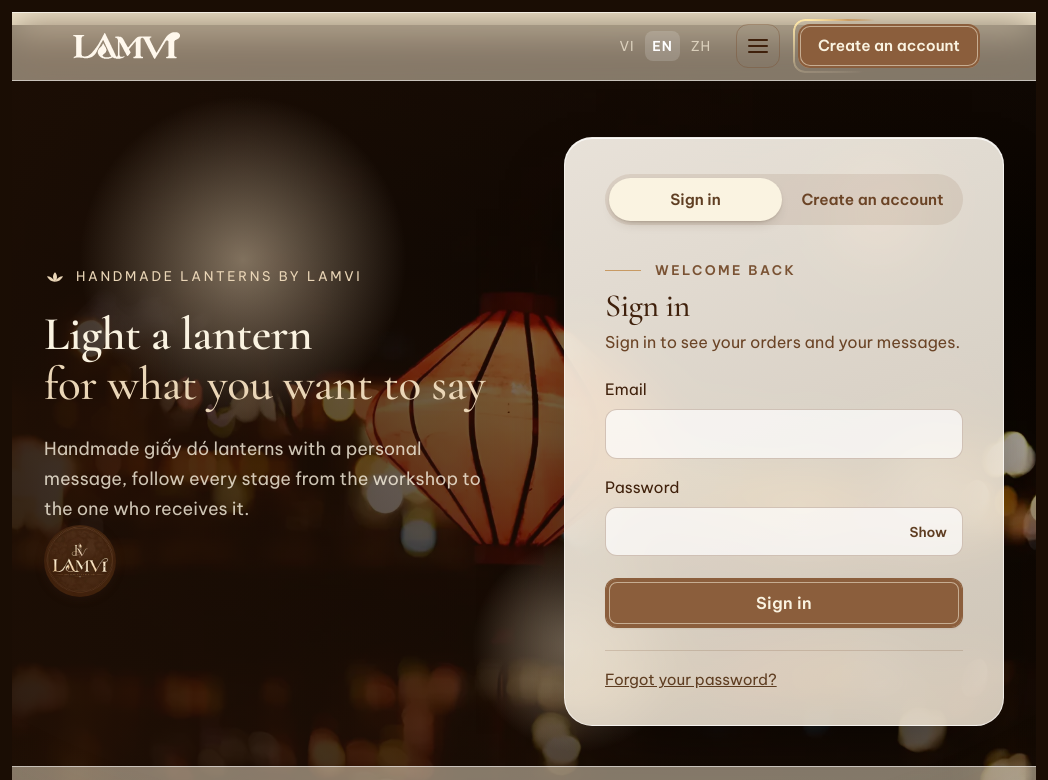
Test: nút hiện/ẩn mật khẩu › /en/login: đổi type, aria-pressed, nhãn và giữ giá trị
Expected: the heading "Sign in" is shown, [605,286,690,325]
In the password field labelled "Password": (784, 532) [605,507,963,556], type "bi-mat-123"
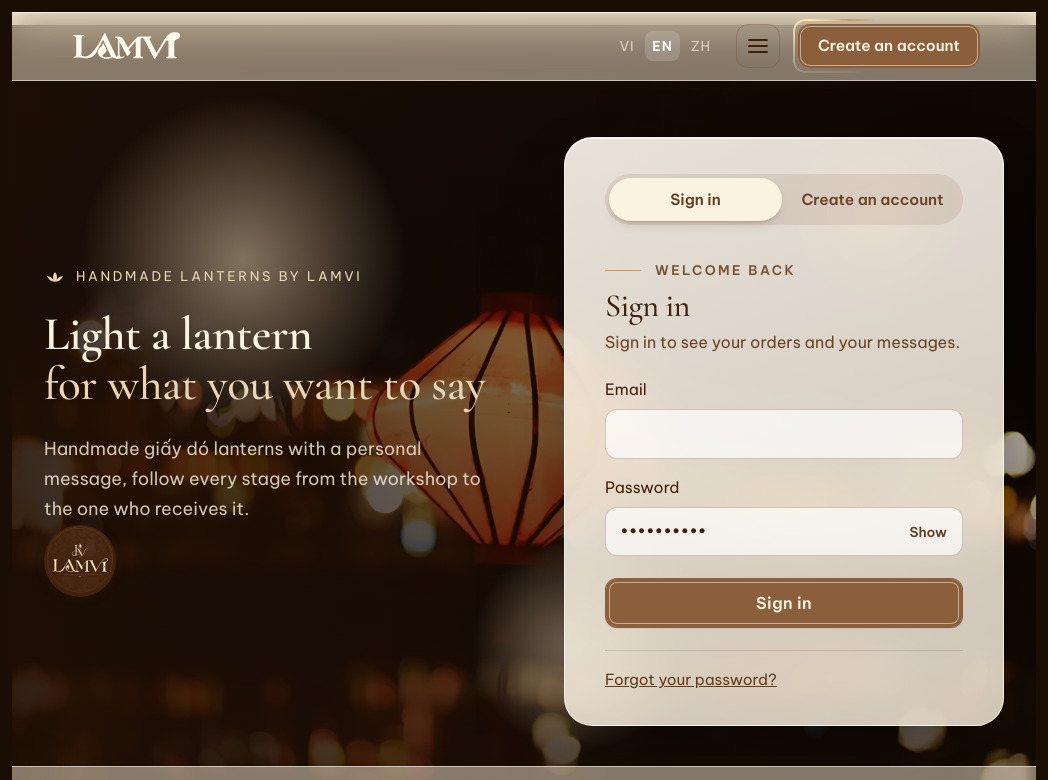
Click the button "Show": (928, 532) [900,514,957,549]
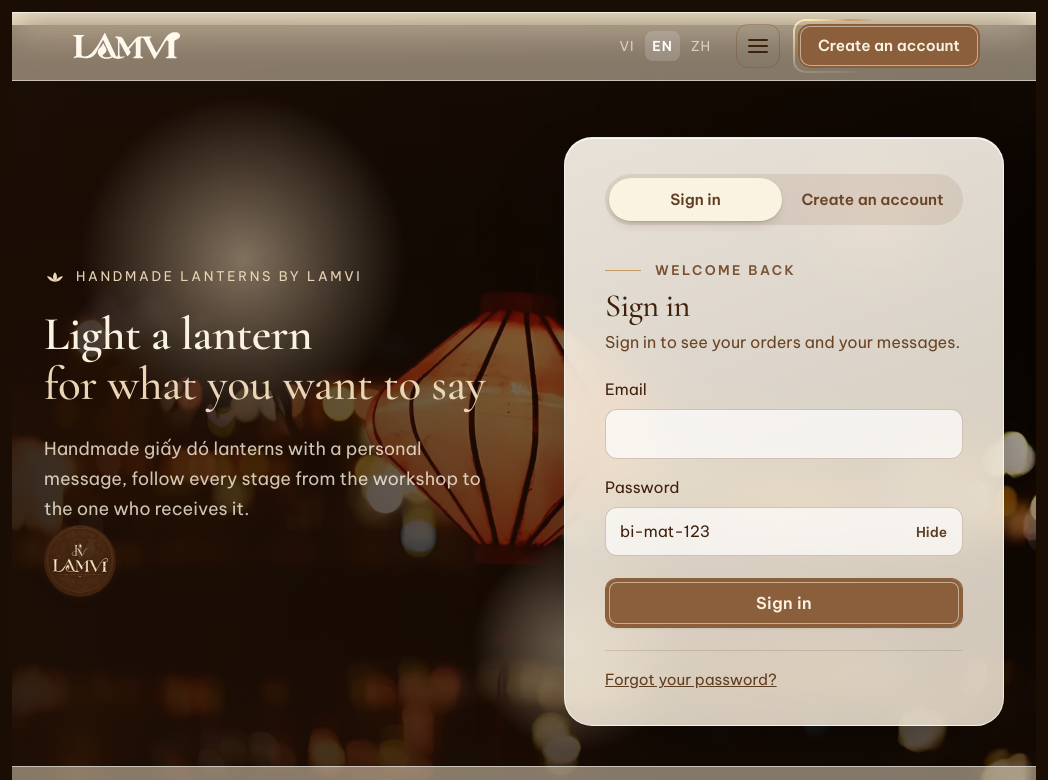
Result: the field labelled "Password" shows its text at [605,507,963,556]
Click the button "Hide": (932, 532) [906,514,957,549]
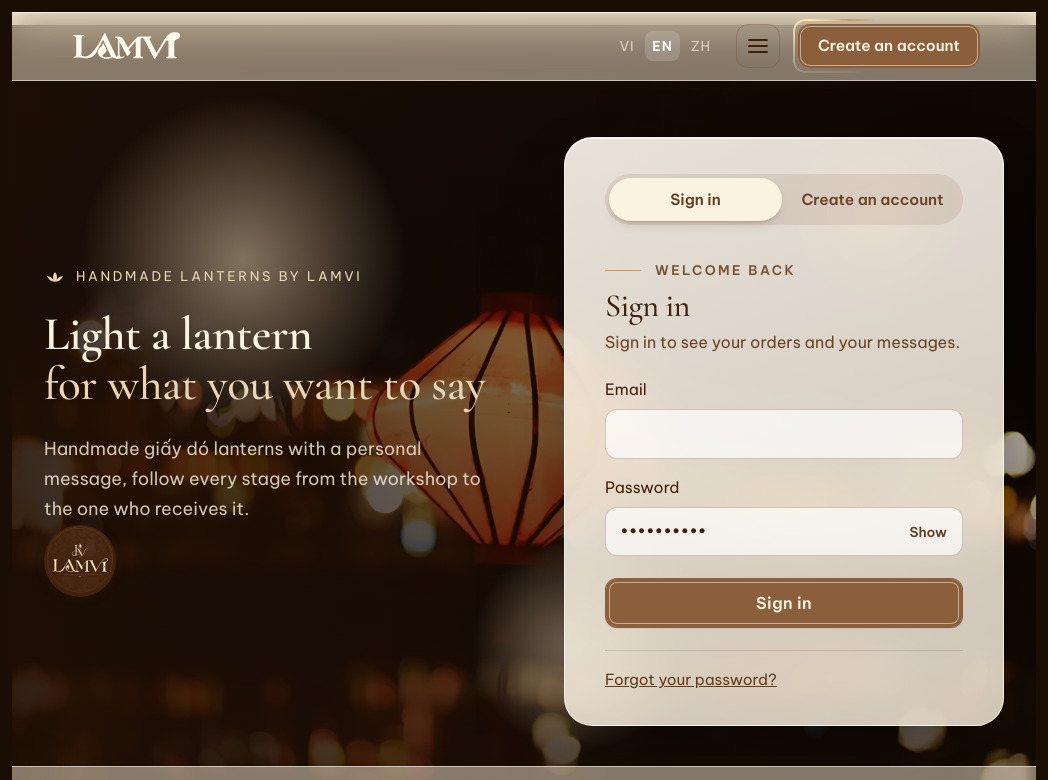
Result: the password field labelled "Password" hides its text at [605,507,963,556]
